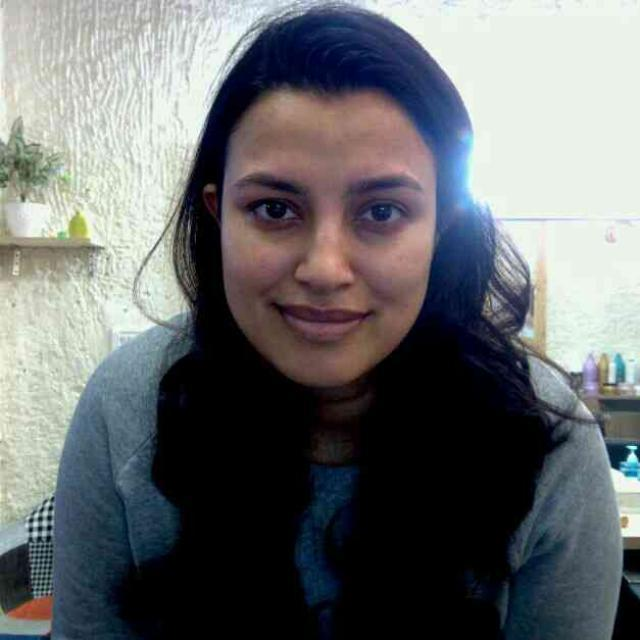puffy_eyes: (348, 226, 391, 248), (253, 225, 301, 244)
